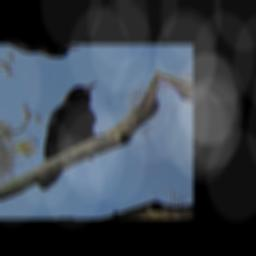Crow: (5, 79, 131, 192)
